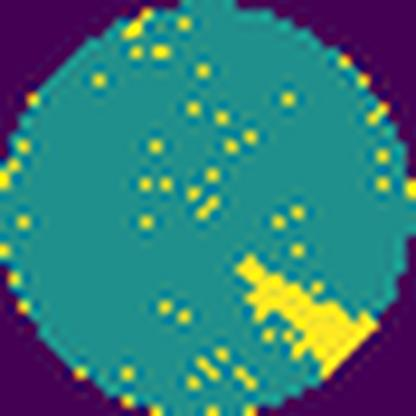Loc: (235, 252, 381, 385)
